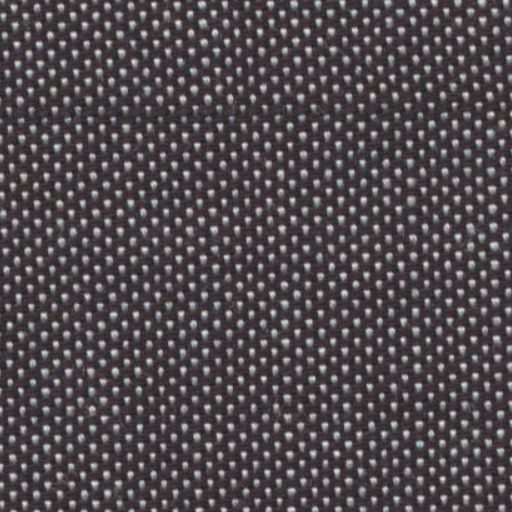TuoSha: (24, 75, 484, 140)
